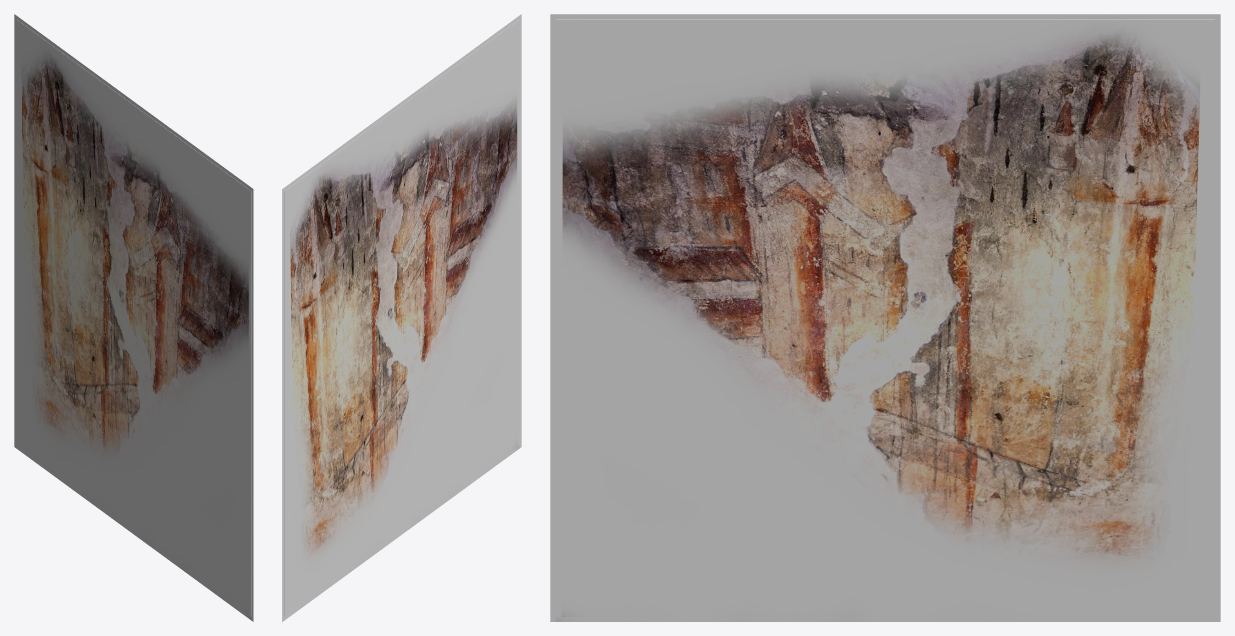
Rendered from 74b - Fragment polichromii, architektura wieży i towarzyszących zabudowań średniowiecznego miasta.glb.
The picture shows the model from 3 angles, left to right: view 1: azimuth 30°, elevation 25°; view 2: azimuth 150°, elevation 25°; view 3: azimuth 270°, elevation 25°; orthographic projection. The views are drawn at different scales.
Parts seen in each view (by area): view 1: Plane; view 2: Plane; view 3: Plane.
Part boxes in pixels (x1=…): Plane: x1=14, y1=14, x2=253, y2=621; Plane: x1=282, y1=14, x2=521, y2=621; Plane: x1=550, y1=14, x2=1220, y2=621.
Bounding box in the file's own units: 0.0246 × 16 × 16.
Materials: 1 (1 with a texture image).
